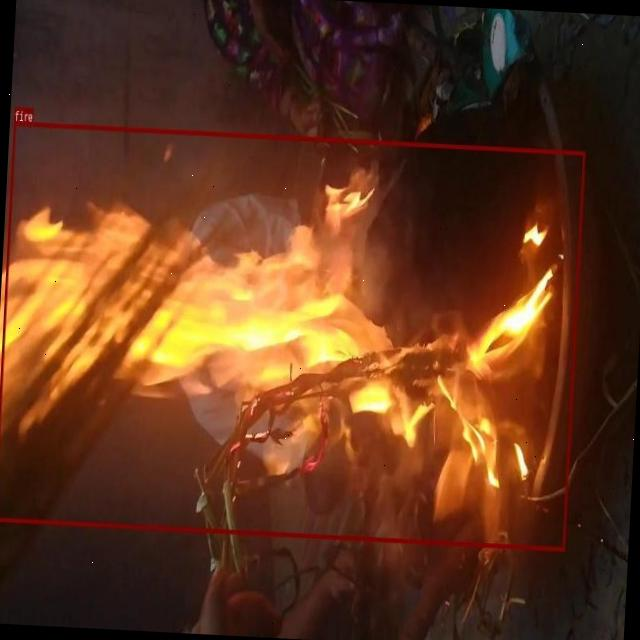fire: (0, 121, 585, 550)
